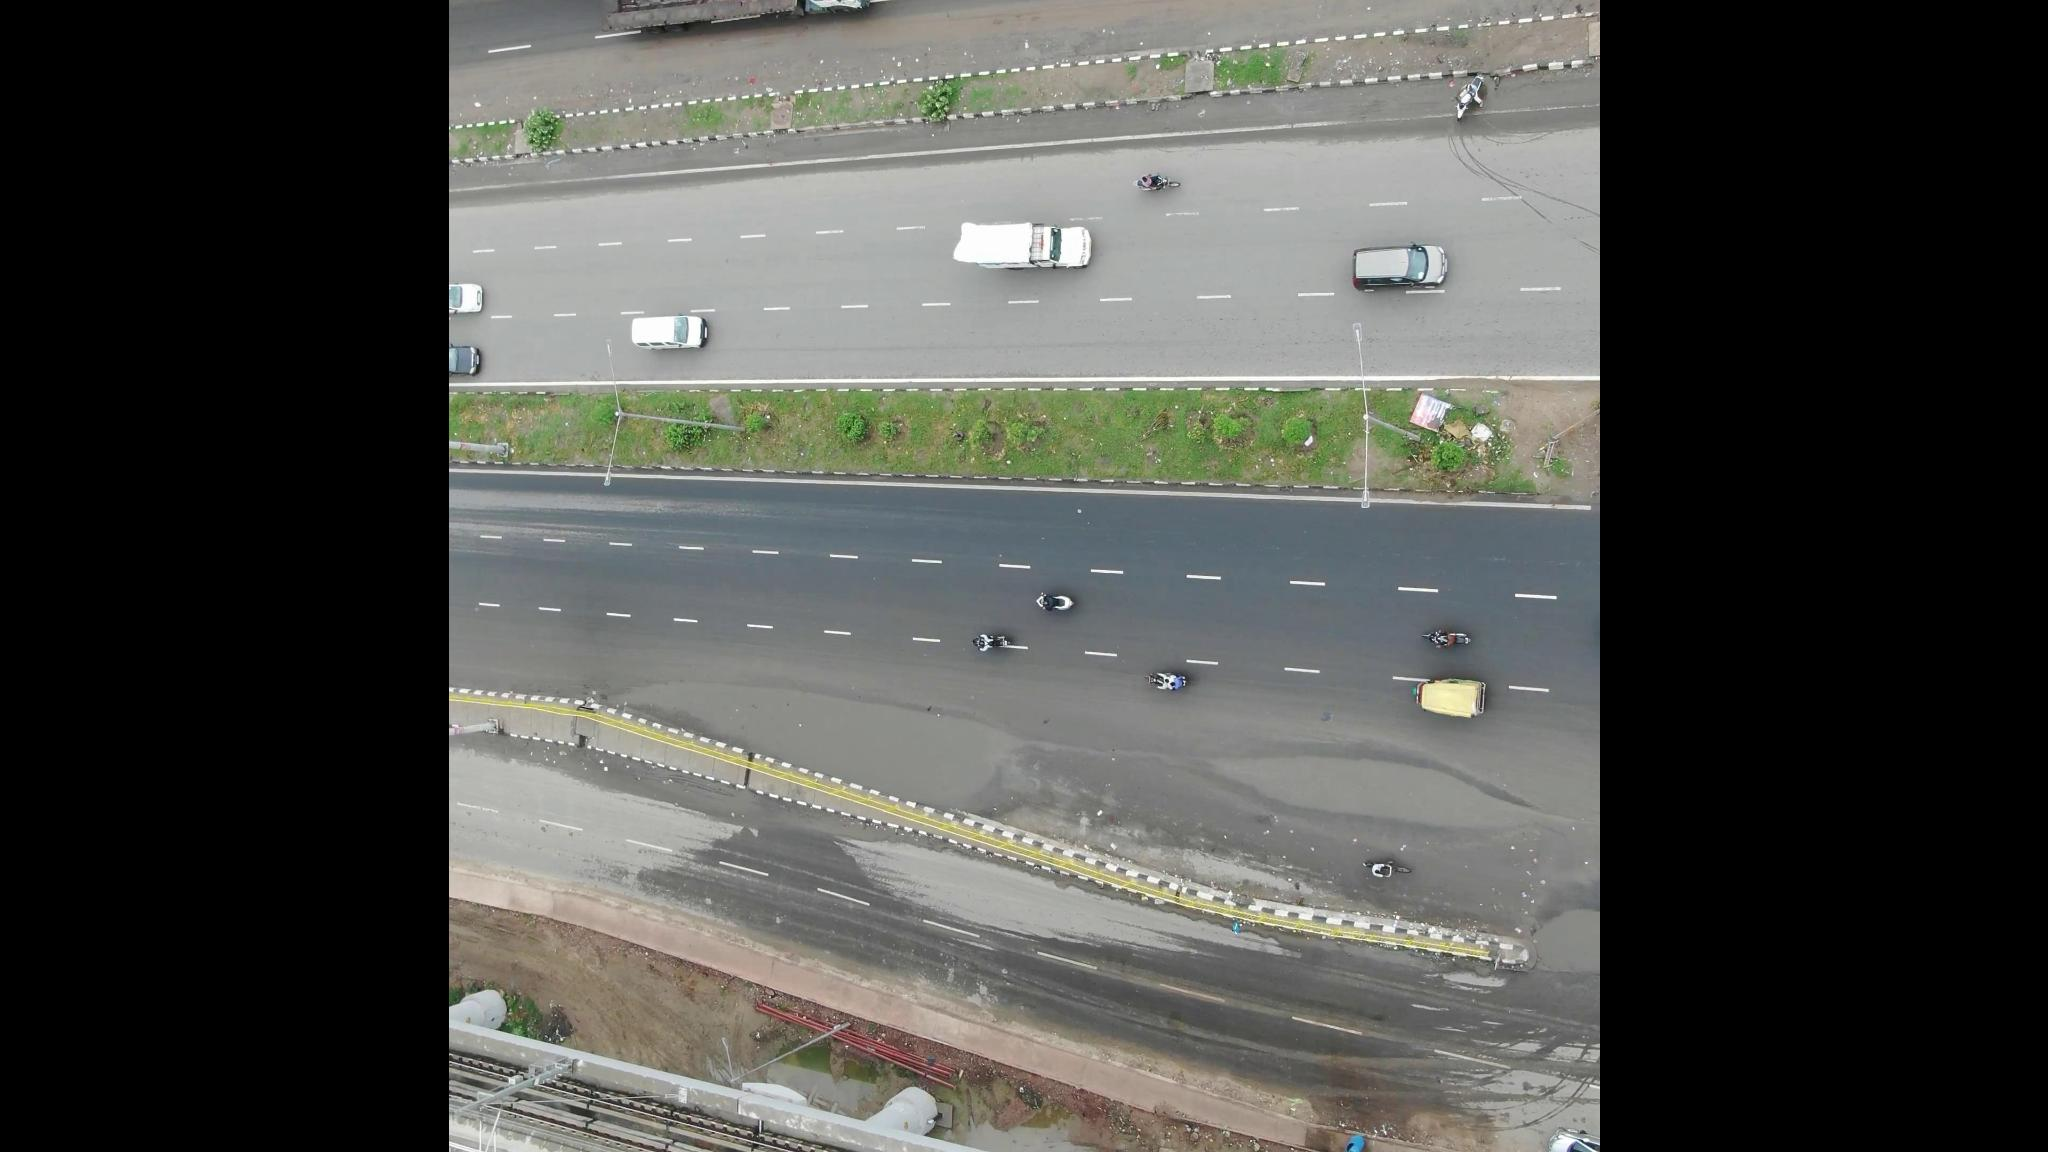Potholes: (619, 668, 993, 817)
